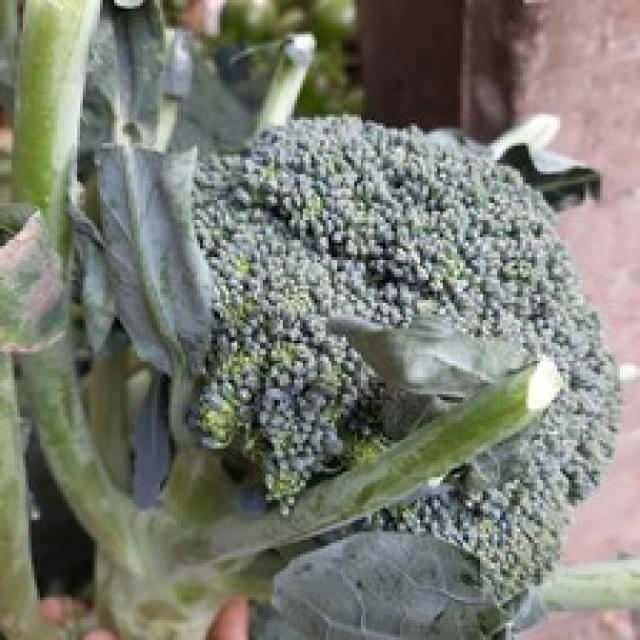Broccoli: (192, 116, 618, 602), (192, 116, 618, 602)
